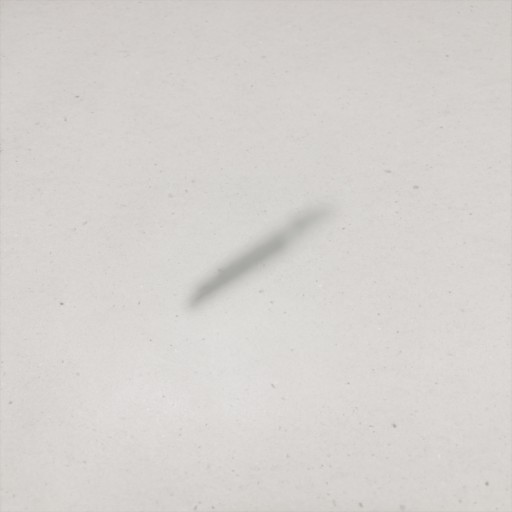lego: (182, 200, 340, 314)
